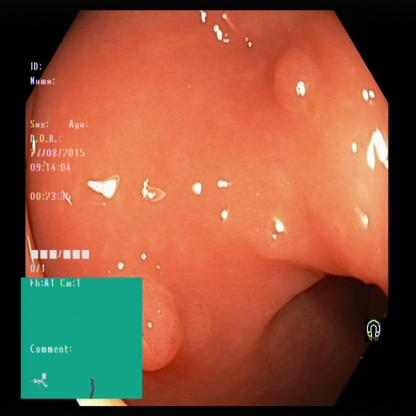Labels: (27, 55, 95, 280), (22, 278, 142, 398)
Polyps: (265, 50, 324, 117), (142, 286, 182, 368)
